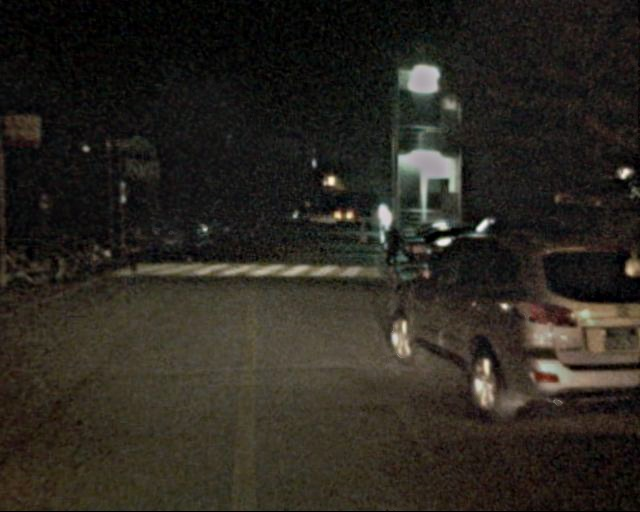person: (380, 224, 405, 286), (121, 217, 144, 272), (177, 217, 191, 257)
